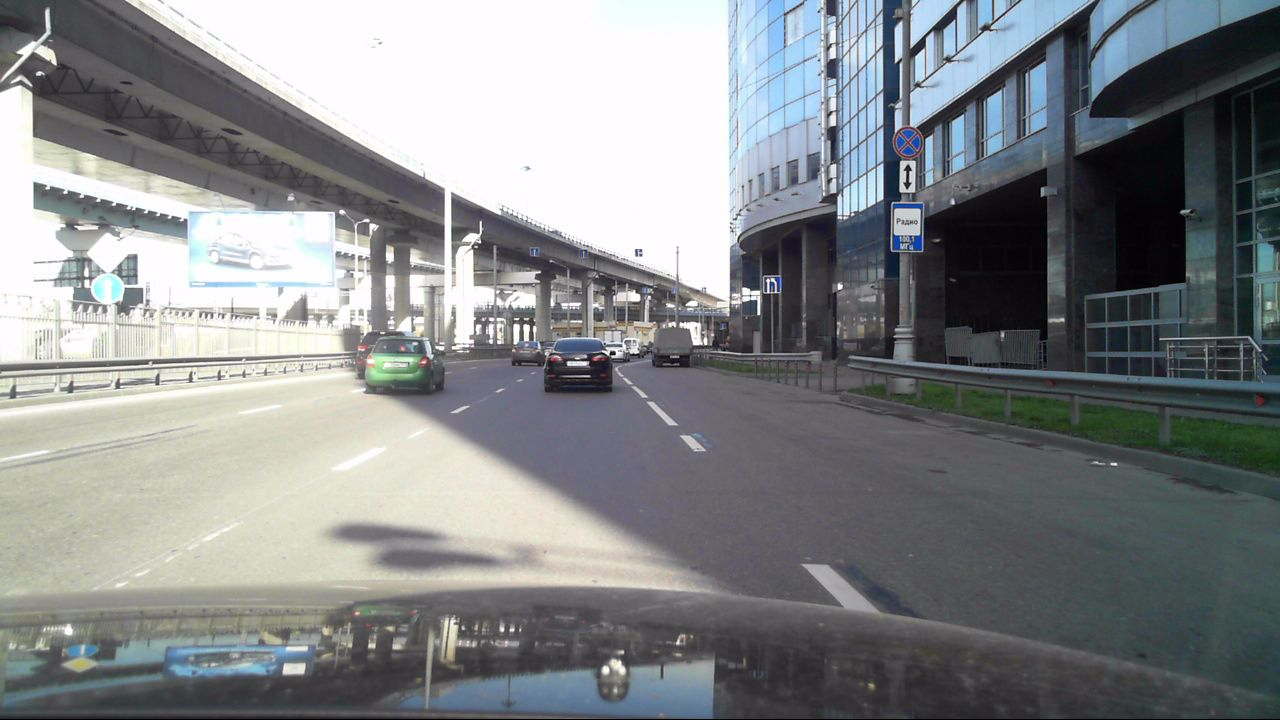No Parking: (894, 127, 921, 159)
